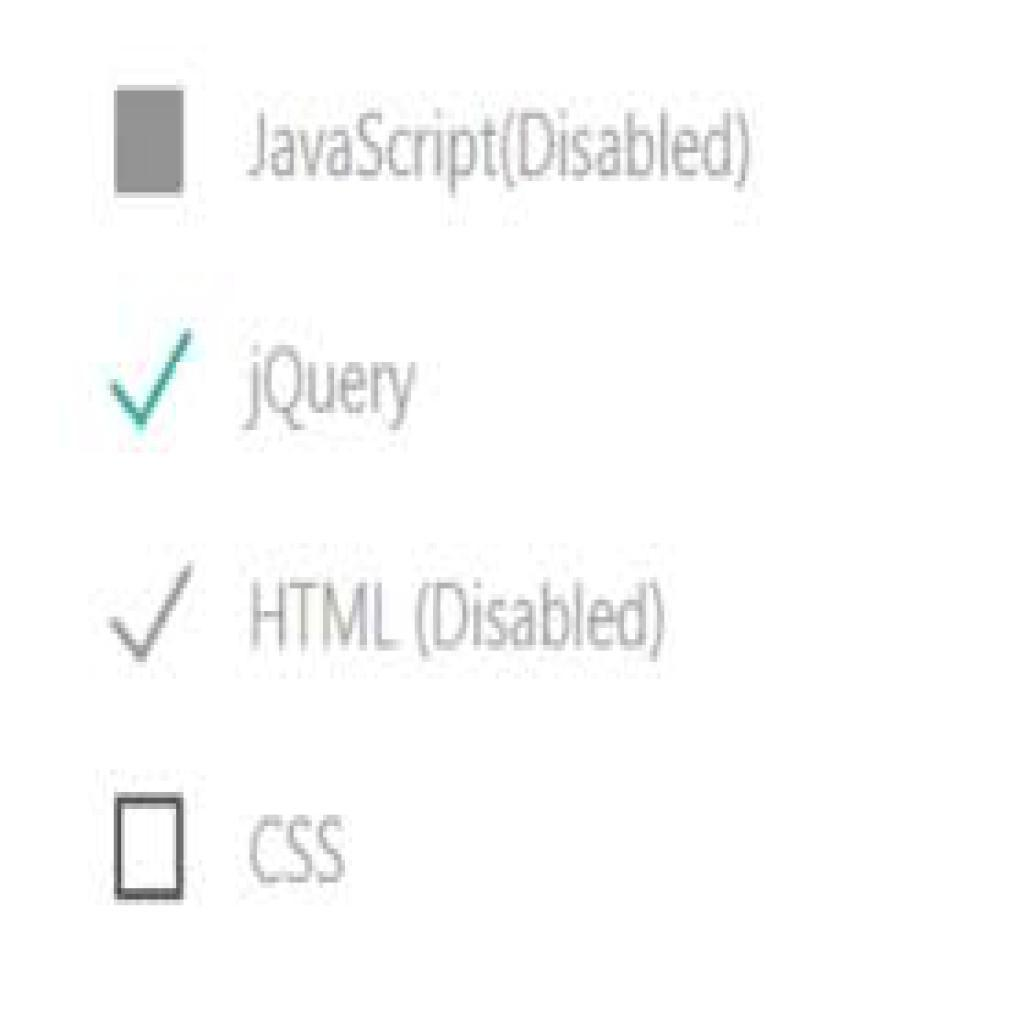checkbox: (115, 90, 186, 194), (116, 797, 184, 899)
icon: (97, 551, 209, 668), (93, 317, 193, 431)
label: (246, 572, 673, 670), (245, 112, 759, 192), (240, 332, 431, 431), (245, 804, 362, 891)
